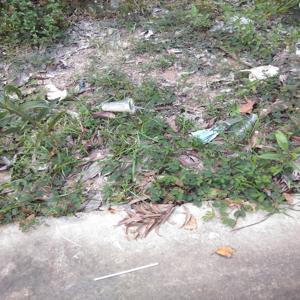glass: (188, 103, 252, 154)
plastic: (89, 255, 163, 287), (101, 96, 143, 123)
